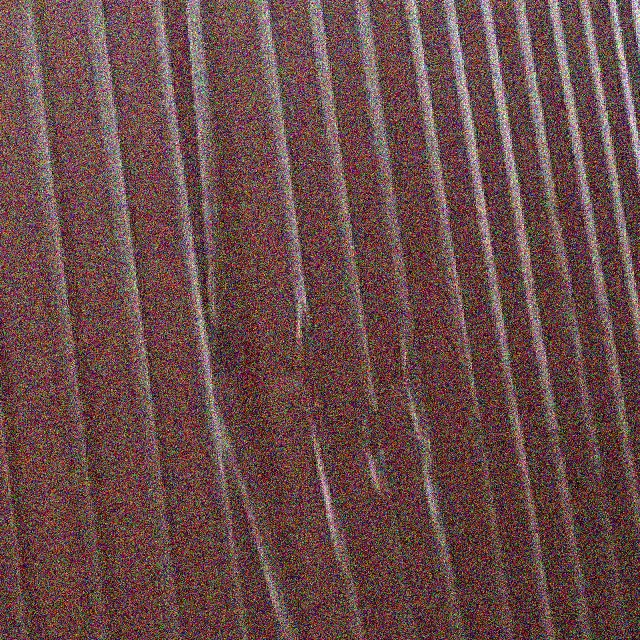Dent: (181, 153, 447, 607)
